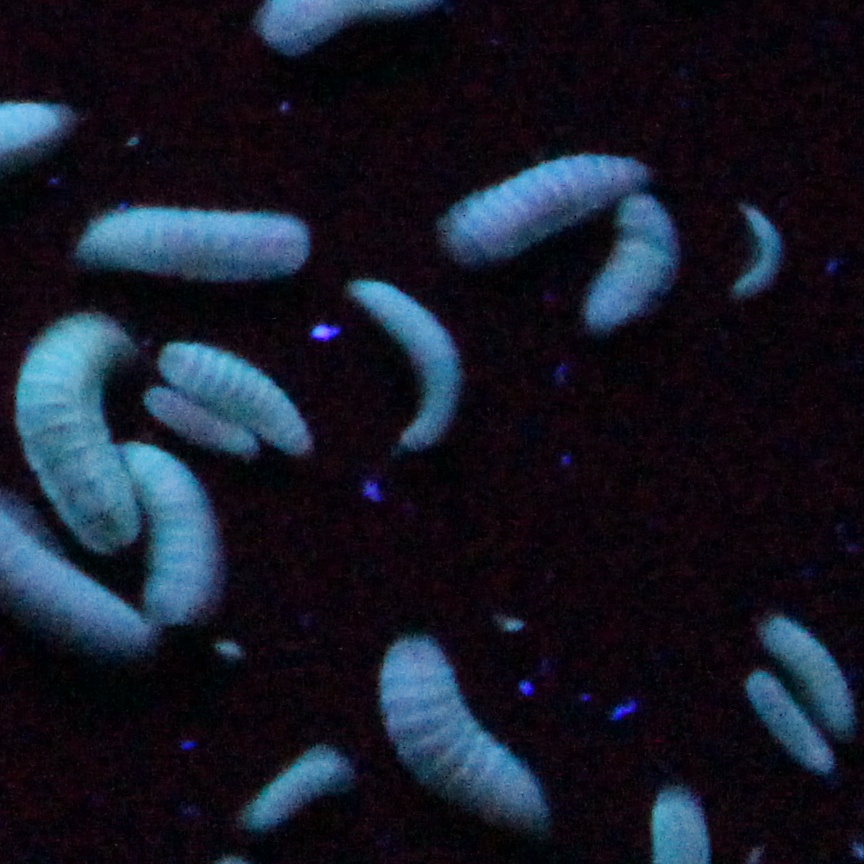larve: (366, 626, 551, 827), (21, 299, 130, 550), (441, 155, 643, 257), (352, 276, 462, 453), (77, 209, 316, 273), (159, 339, 302, 442), (584, 188, 685, 330), (761, 608, 852, 729), (148, 467, 216, 621), (738, 668, 828, 771), (139, 385, 259, 462), (246, 744, 344, 830), (725, 196, 780, 303)
